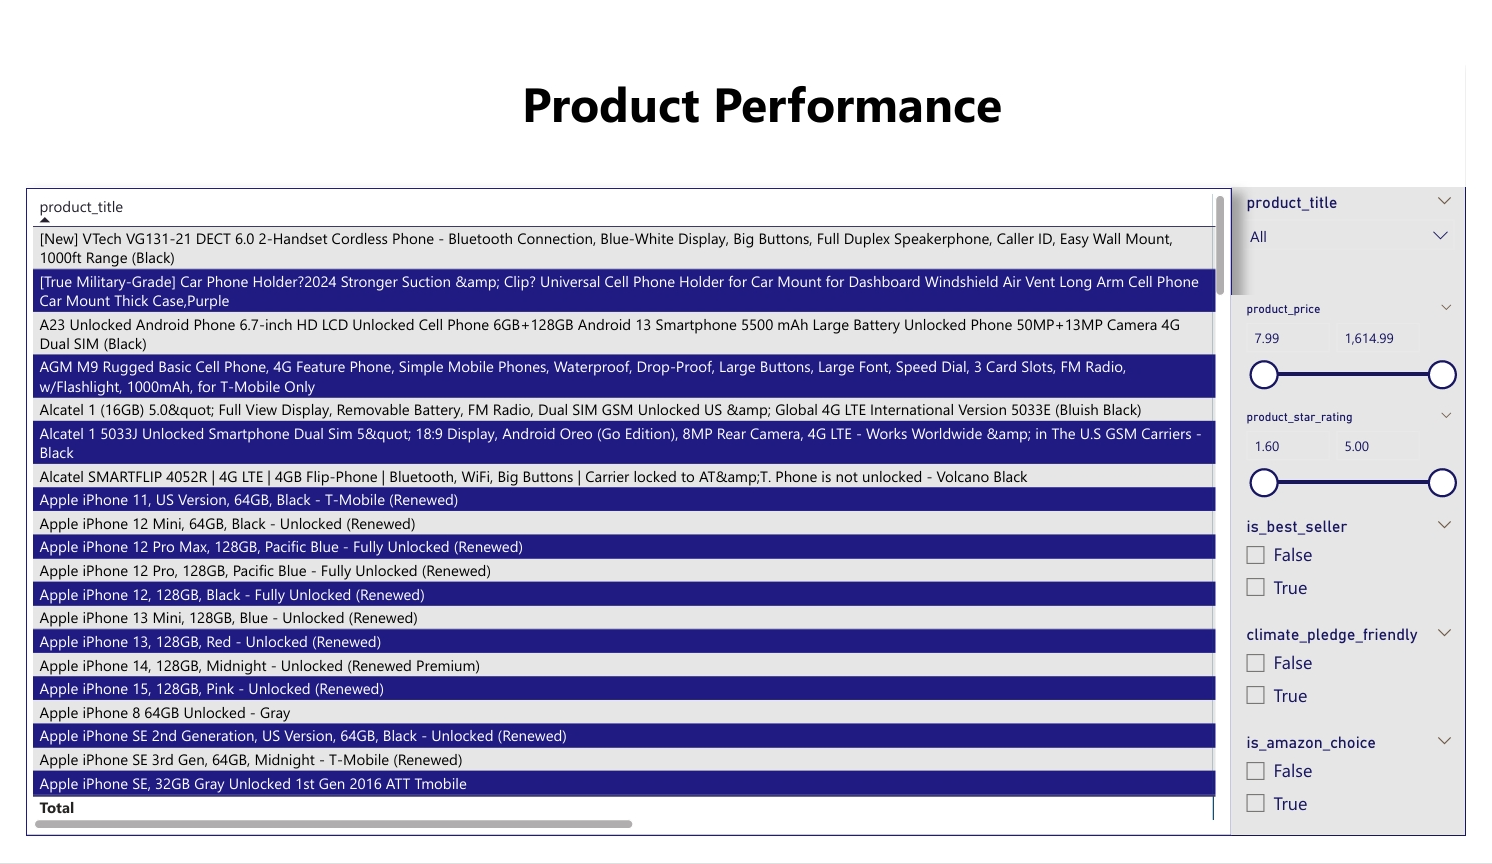

What the dashboard file says about the page in this screenshot:
{"tool":"powerbi","page":{"name":"Product Performance","canvas":[1280,720],"ordinal":1},"visuals":[{"type":"shape","box":[1072,144,208,576],"z":0},{"type":"slicer","fields":{"Values":["phone search (1) (1).product_title"]},"box":[1072,144,208,96],"z":1000},{"type":"tableEx","fields":{"Values":["phone search (1) (1).product_title","phone search (1) (1).product_price","phone search (1) (1).product_orginal_price...","phone search (1) (1).product_minimum_offer_price","phone search (1) (1).Price_Difference","phone search (1) (1).Avg_Star_Rating","phone search (1) (1).sales_volume","phone search (1) (1).is_best_seller","phone search (1) (1).is_amazon_choice"]},"box":[0,144,1072,576],"z":2000},{"type":"slicer","fields":{"Values":["phone search (1) (1).climate_pledge_friendly"]},"box":[1072,528,208,96],"z":3000},{"type":"slicer","fields":{"Values":["phone search (1) (1).is_amazon_choice"]},"box":[1072,624,208,96],"z":4000},{"type":"slicer","fields":{"Values":["phone search (1) (1).product_price"]},"box":[1072,240,208,96],"z":5000},{"type":"slicer","fields":{"Values":["phone search (1) (1).is_best_seller"]},"box":[1072,432,208,96],"z":6000},{"type":"slicer","fields":{"Values":["phone search (1) (1).product_star_rating"]},"box":[1072,336,208,96],"z":7000},{"type":"textbox","box":[0,0,1280,128],"z":8000}]}

Visuals, with their boxes in screenshot pixels (x1, y1, x2, y2), scaled from the page's 1280x720 canvas onto the 1492x864 screenshot:
shape: region(1250, 173, 1491, 863)
slicer - phone search (1) (1).product_title: region(1250, 173, 1491, 288)
tableEx - phone search (1) (1).product_title x phone search (1) (1).product_price: region(0, 173, 1250, 863)
slicer - phone search (1) (1).climate_pledge_friendly: region(1250, 634, 1491, 749)
slicer - phone search (1) (1).is_amazon_choice: region(1250, 749, 1491, 863)
slicer - phone search (1) (1).product_price: region(1250, 288, 1491, 403)
slicer - phone search (1) (1).is_best_seller: region(1250, 518, 1491, 634)
slicer - phone search (1) (1).product_star_rating: region(1250, 403, 1491, 518)
textbox: region(0, 0, 1491, 154)
